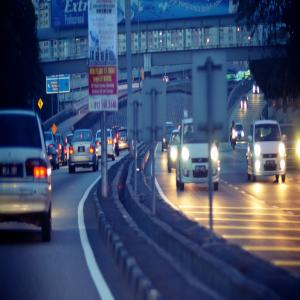Vehicle-registration-plate: (1, 164, 23, 181), (197, 167, 207, 173), (80, 148, 86, 154)
